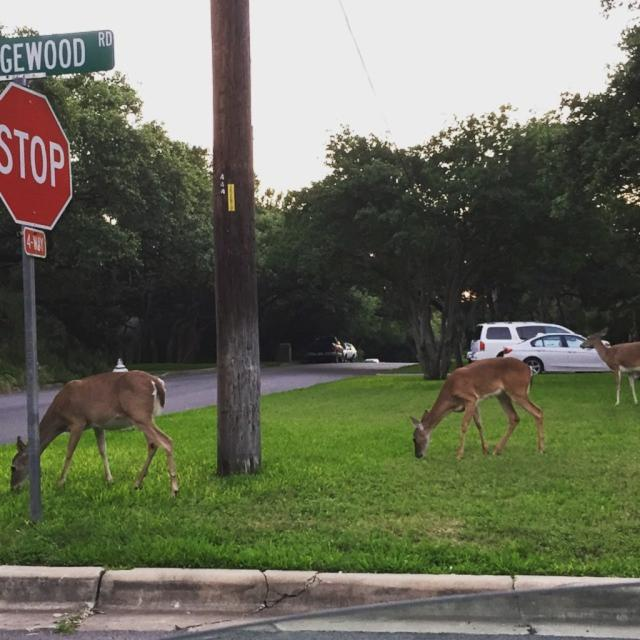Stop-sign: (0, 79, 74, 231)
